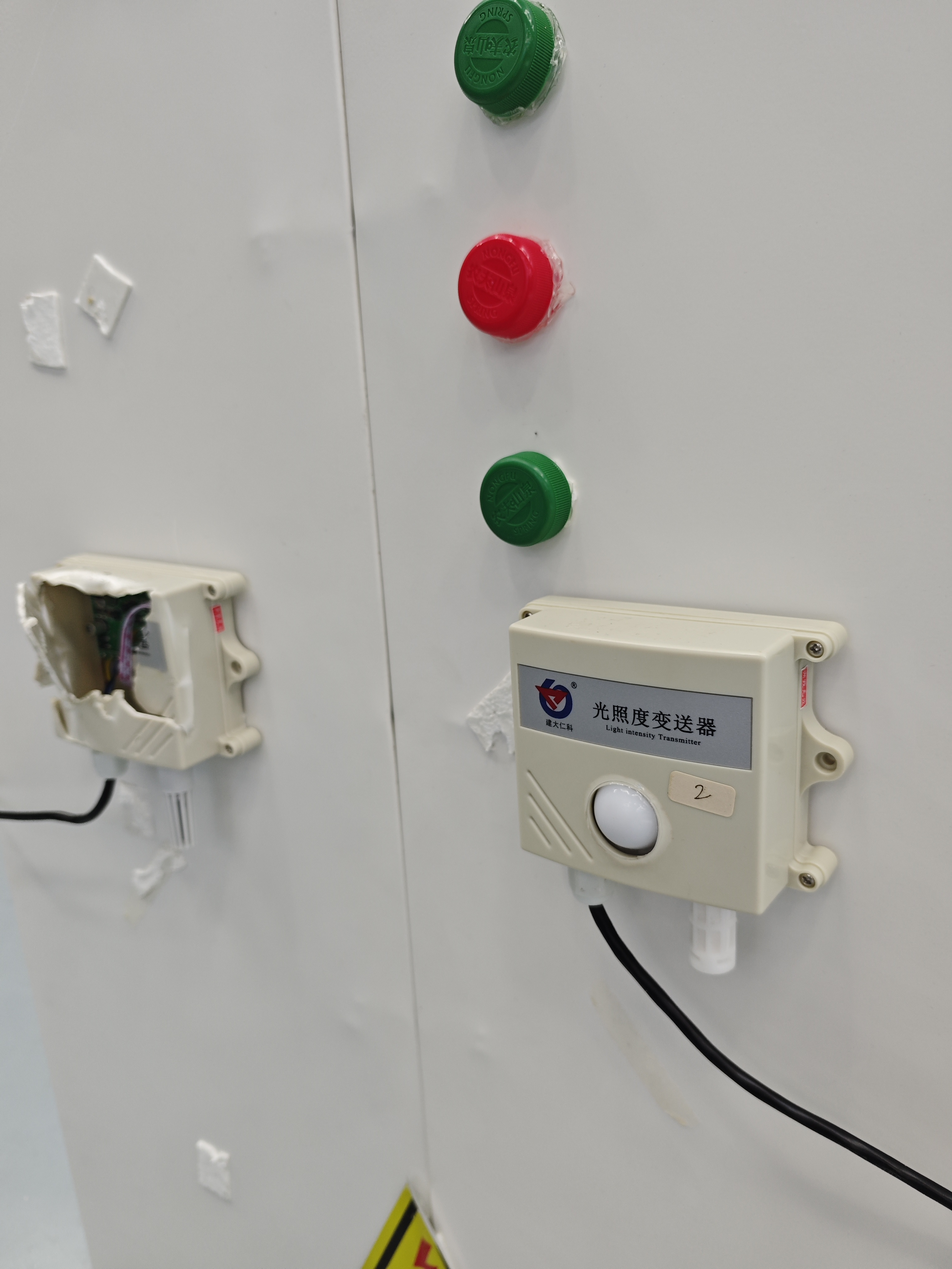red_warning: (443, 208, 598, 373)
sensor_damage: (4, 528, 271, 882)
